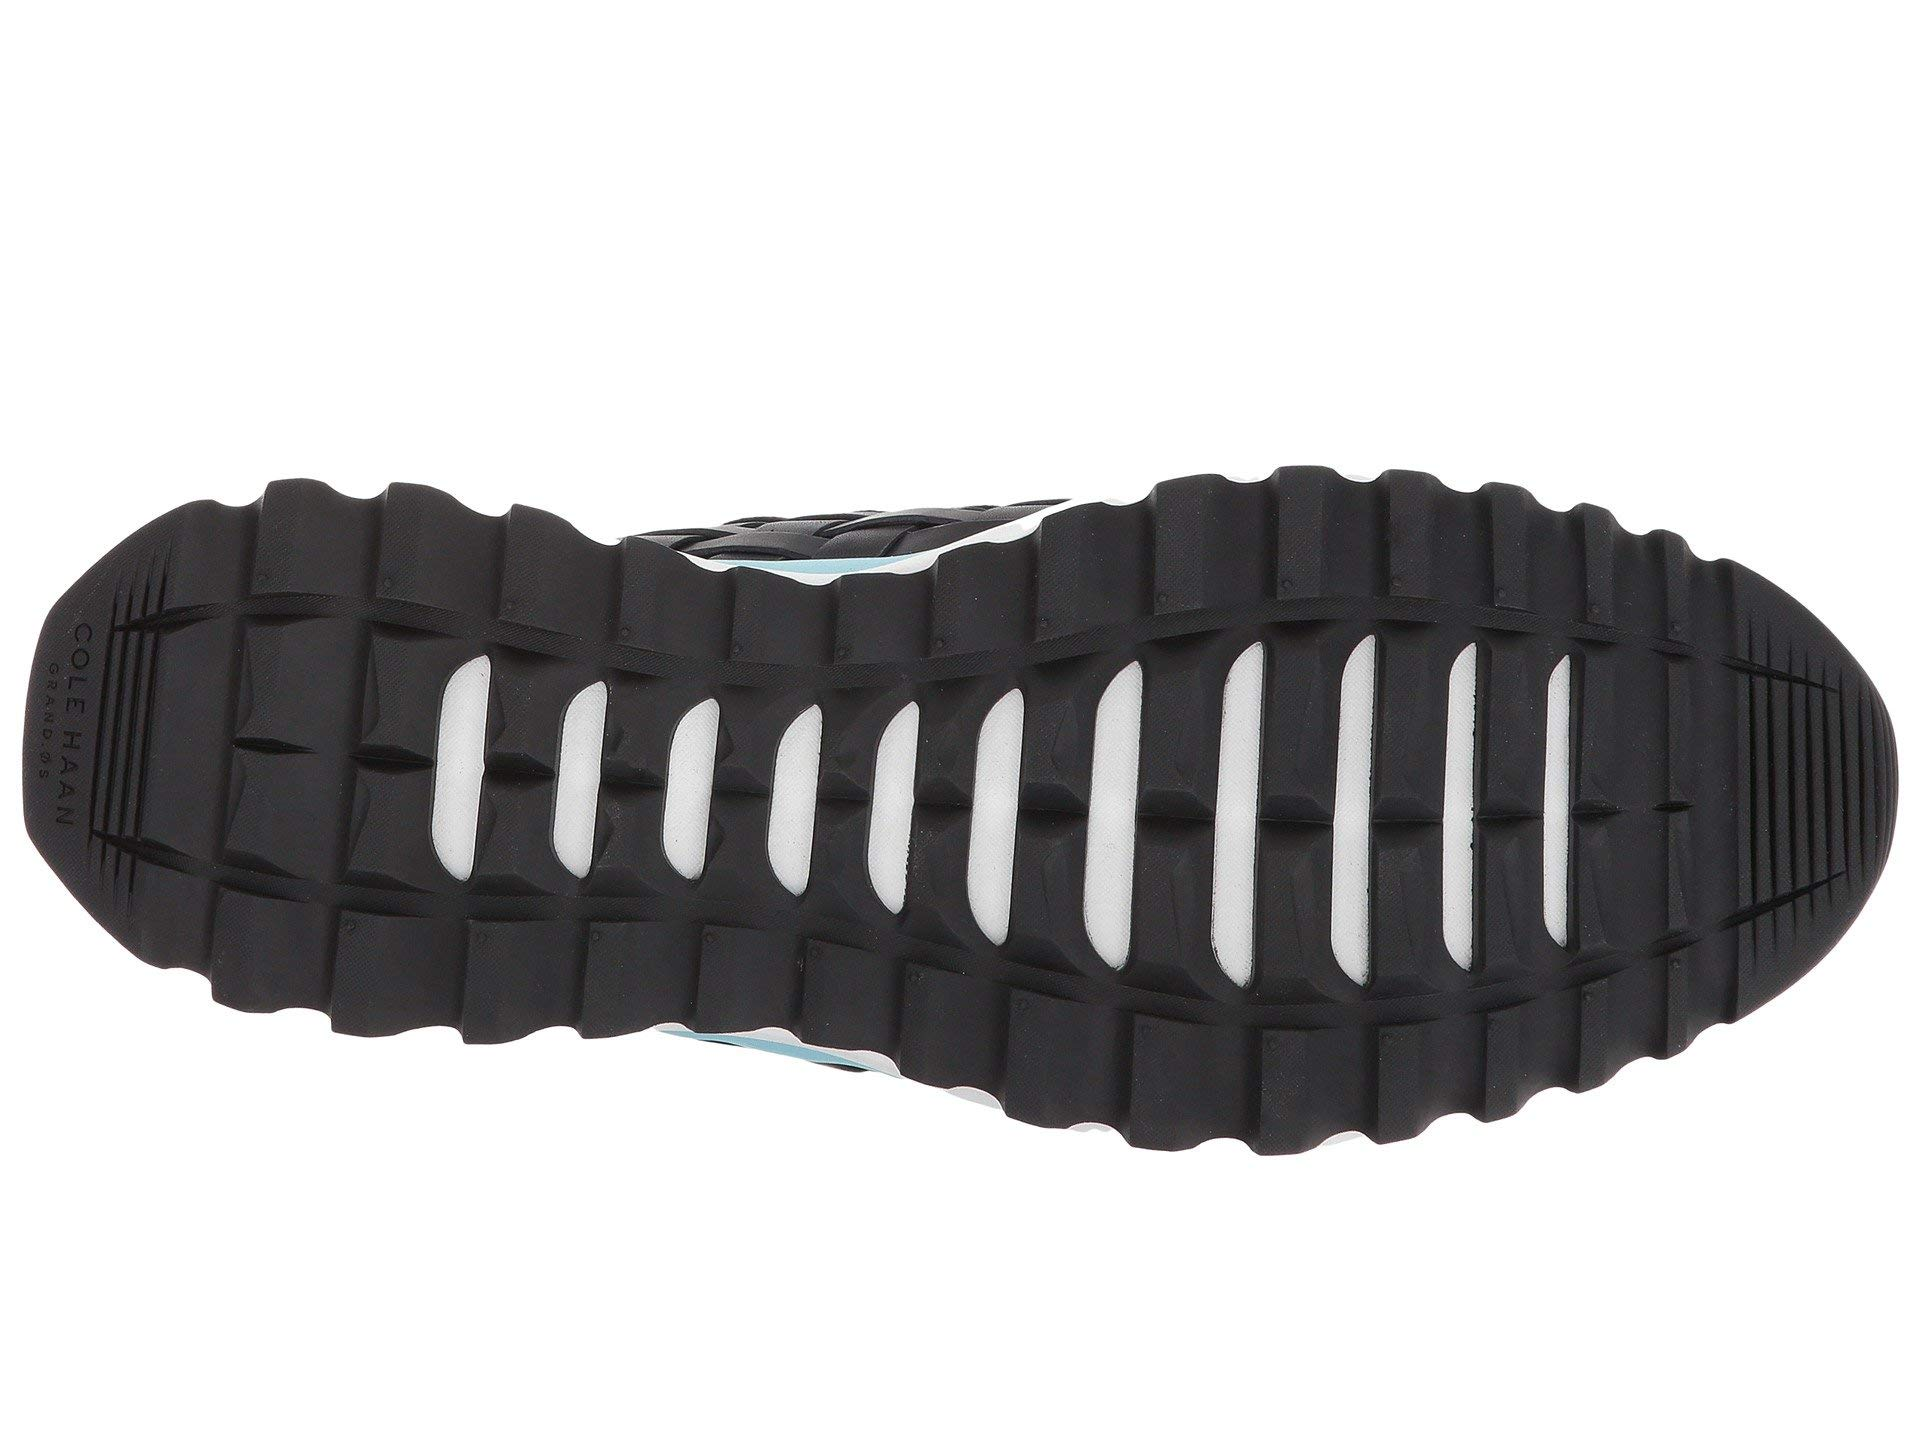line: (1592, 593, 1897, 954)
quad: (184, 566, 494, 953), (1592, 593, 1897, 954)
